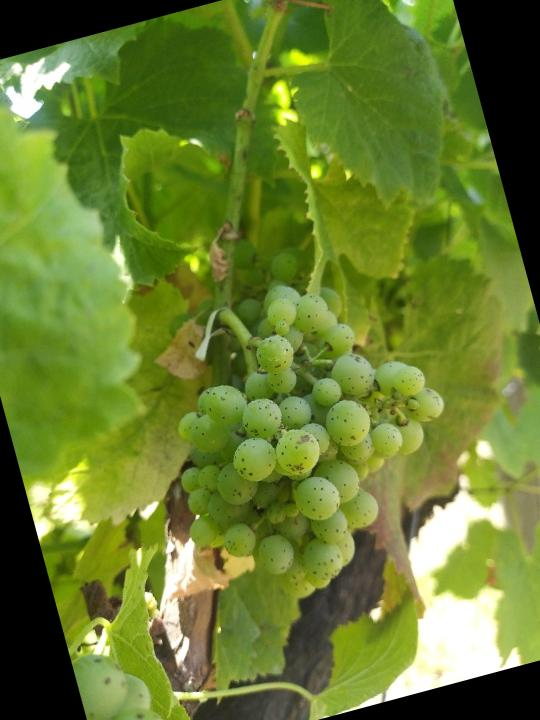grape: (131, 249, 485, 624)
